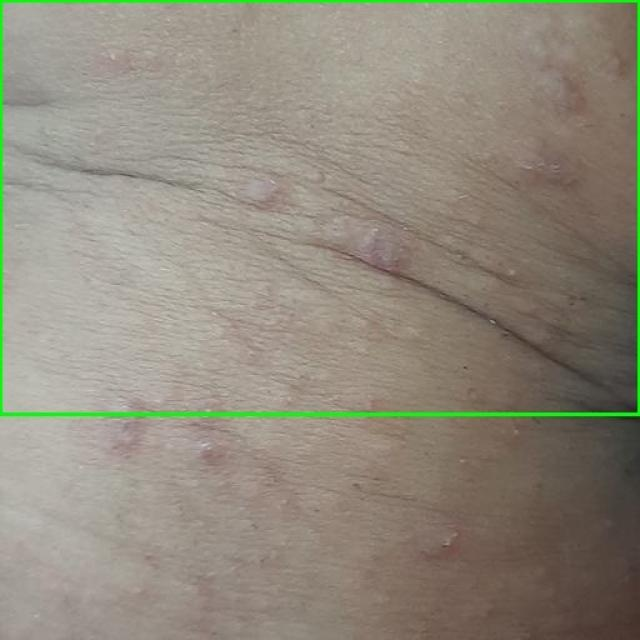Scabies: (0, 0, 639, 415)
